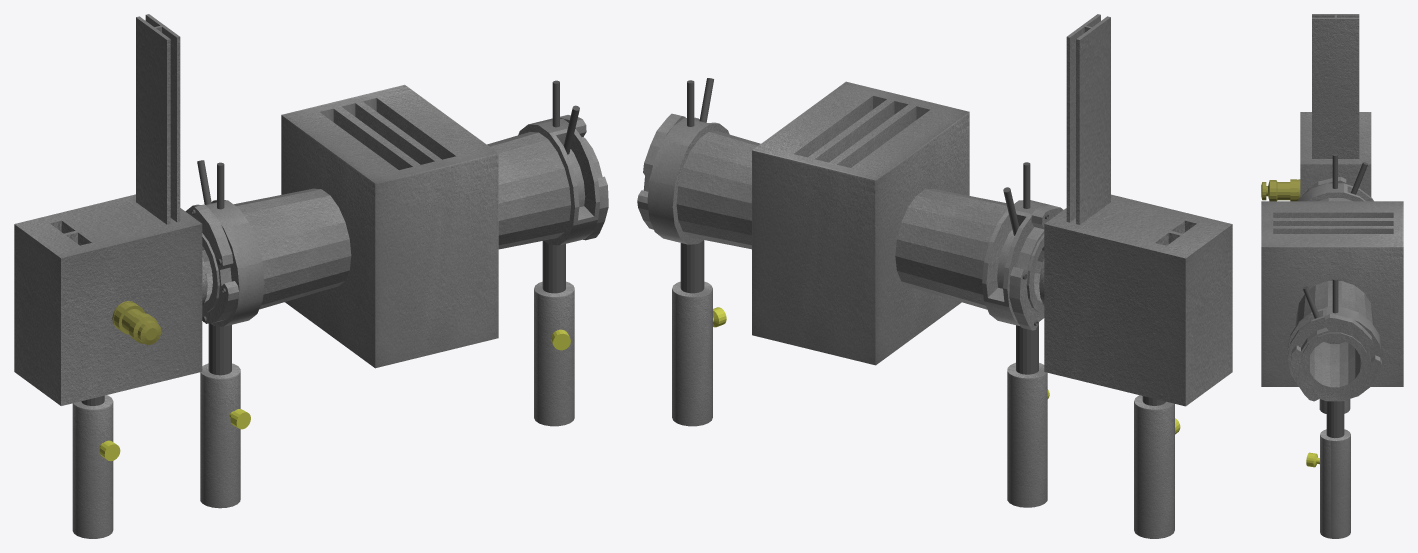
Rendered from Led_system_1_2.glb.
The picture shows the model from 3 angles, left to right: view 1: azimuth 30°, elevation 25°; view 2: azimuth 150°, elevation 25°; view 3: azimuth 270°, elevation 25°; orthographic projection. The views are drawn at different scales.
Parts seen in each view (by area): view 1: Box008.001, Box007.001, Cylinder012.001, Cylinder022.001, Cylinder350.001, Cylinder357.001, Cylinder358.001, Cylinder010.001, Object017.001, Object019.001; view 2: Box008.001, Box007.001, Cylinder012.001, Cylinder022.001, Cylinder358.001, Cylinder357.001, Cylinder350.001, Object019.001, Object017.001; view 3: Box008.001, Box007.001, Cylinder022.001, Cylinder358.001, Cylinder012.001, Cylinder010.001, Object019.001, Cylinder024.001, Cylinder019.001, Cylinder023.001, Cylinder020.001, Cylinder357.001.
Part boxes in pixels (x1,y1,x2,y2): Box008.001: (281, 84, 498, 368); Box007.001: (14, 14, 207, 405); Cylinder012.001: (185, 188, 351, 326); Cylinder022.001: (487, 115, 608, 249); Cylinder350.001: (72, 395, 113, 538); Cylinder357.001: (200, 363, 240, 508); Cylinder358.001: (534, 281, 574, 426); Cylinder010.001: (112, 301, 161, 344); Object017.001: (208, 323, 231, 375); Object019.001: (542, 240, 565, 293); Box008.001: (752, 81, 969, 365); Box007.001: (1039, 14, 1232, 406); Cylinder012.001: (895, 188, 1063, 330); Cylinder022.001: (637, 113, 760, 249); Cylinder358.001: (672, 281, 712, 426); Cylinder357.001: (1007, 362, 1047, 507); Cylinder350.001: (1134, 395, 1174, 538); Object019.001: (680, 240, 704, 293); Object017.001: (1016, 322, 1038, 374); Box008.001: (1261, 201, 1403, 386); Box007.001: (1300, 14, 1371, 196); Cylinder022.001: (1287, 281, 1382, 401); Cylinder358.001: (1320, 429, 1350, 538); Cylinder012.001: (1298, 176, 1373, 201); Cylinder010.001: (1261, 179, 1300, 201); Object019.001: (1326, 401, 1344, 438); Cylinder024.001: (1332, 278, 1338, 313); Cylinder019.001: (1332, 153, 1337, 188); Cylinder023.001: (1302, 286, 1319, 318); Cylinder020.001: (1351, 162, 1367, 194); Cylinder357.001: (1319, 399, 1350, 413).
Size of the model in its own units: 15.39 by 13.18 by 4.61.
Materials: 4 (1 with a texture image).
